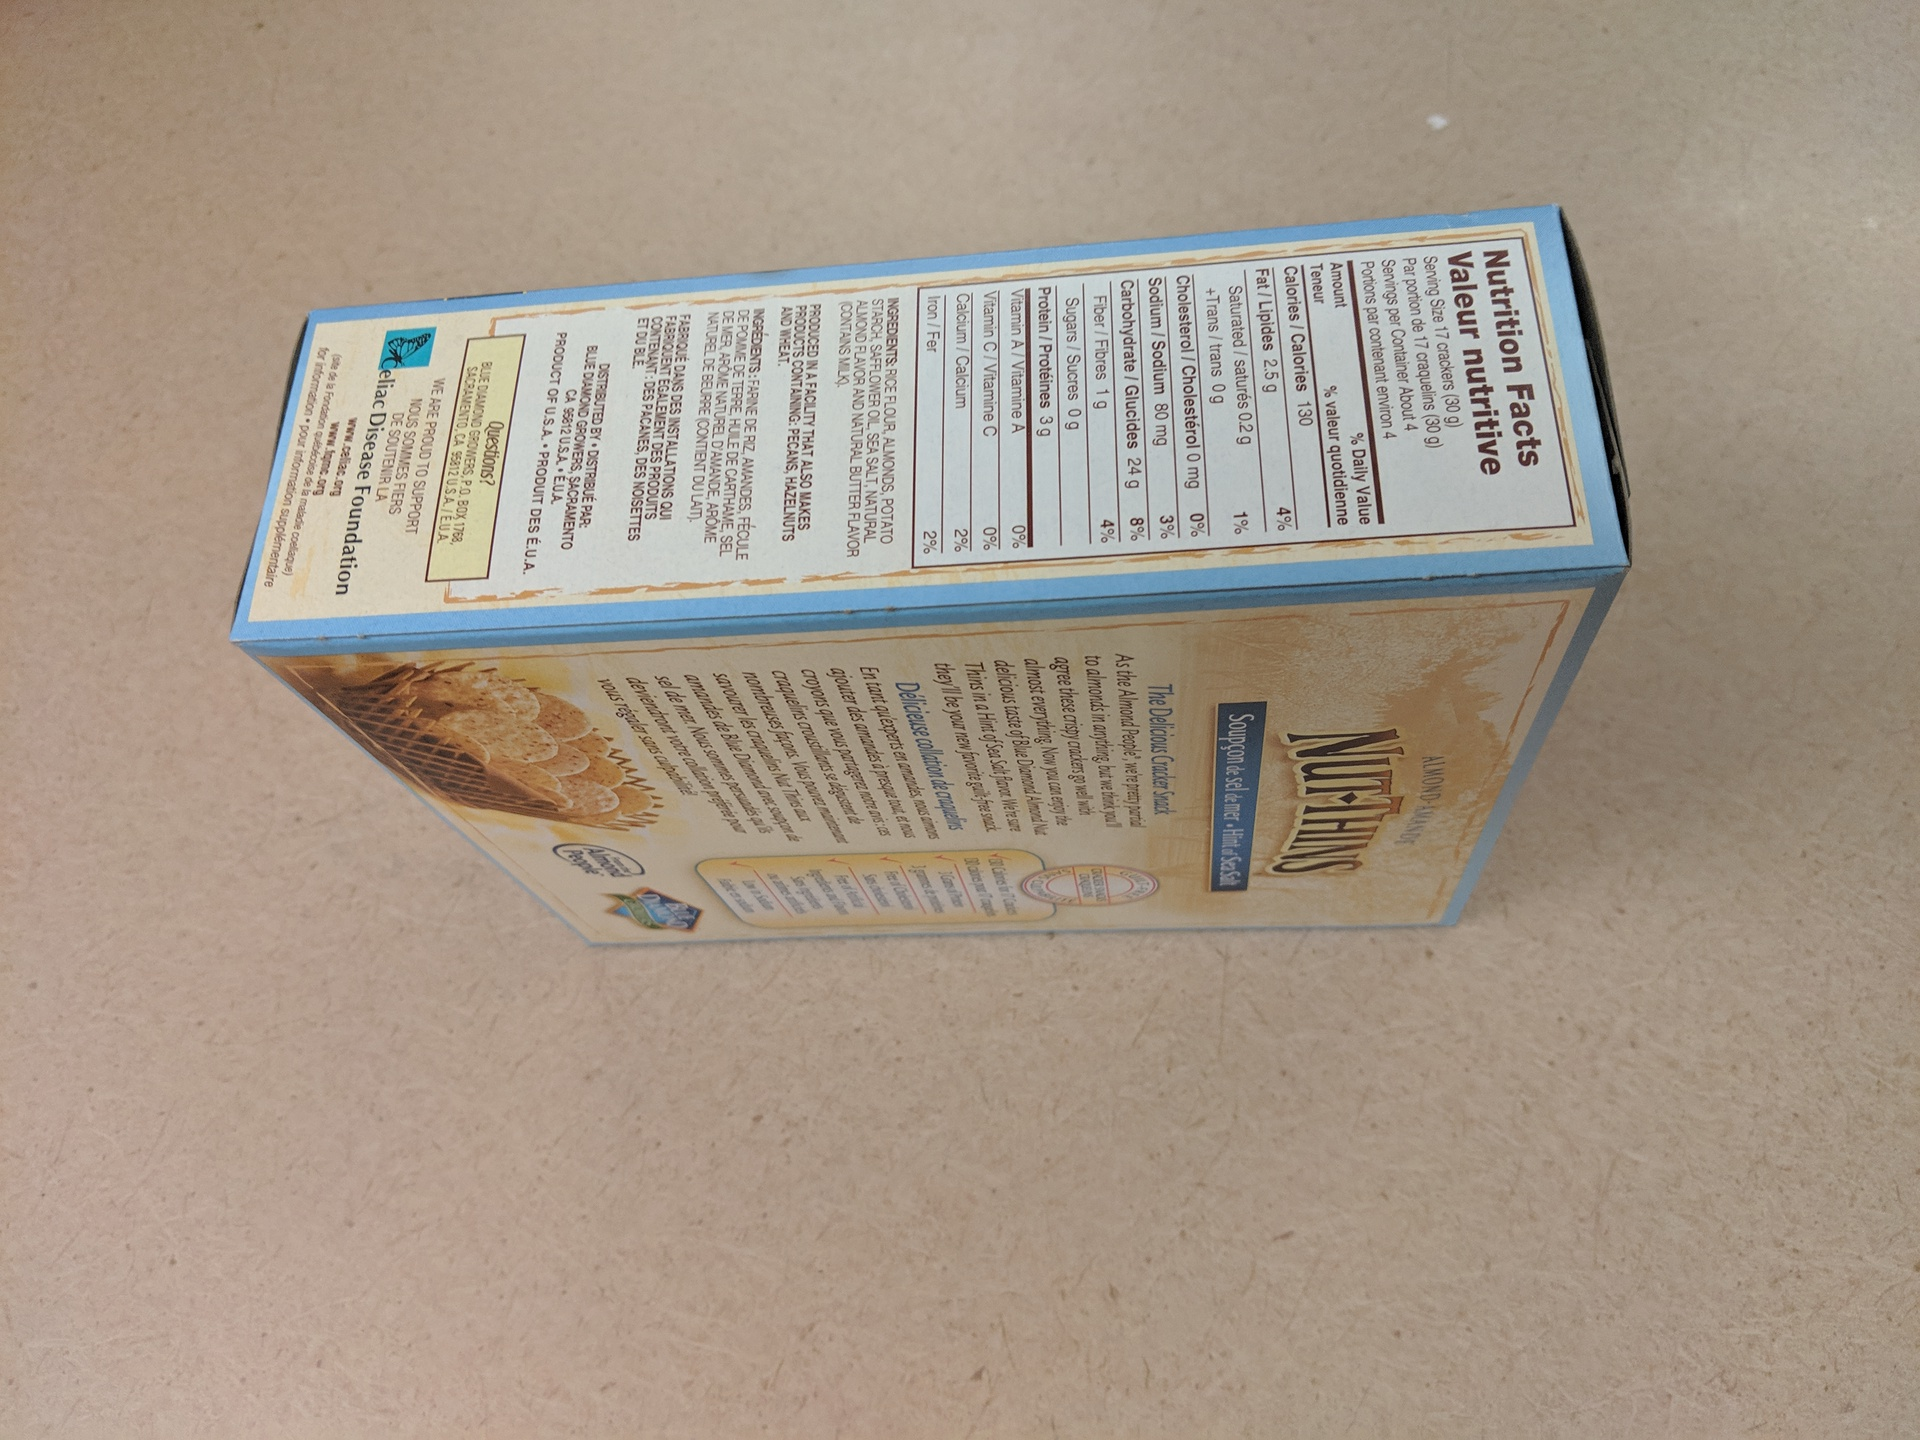blue_diamond_nut_thins_almond_seasalt: (283, 197, 1636, 935)
